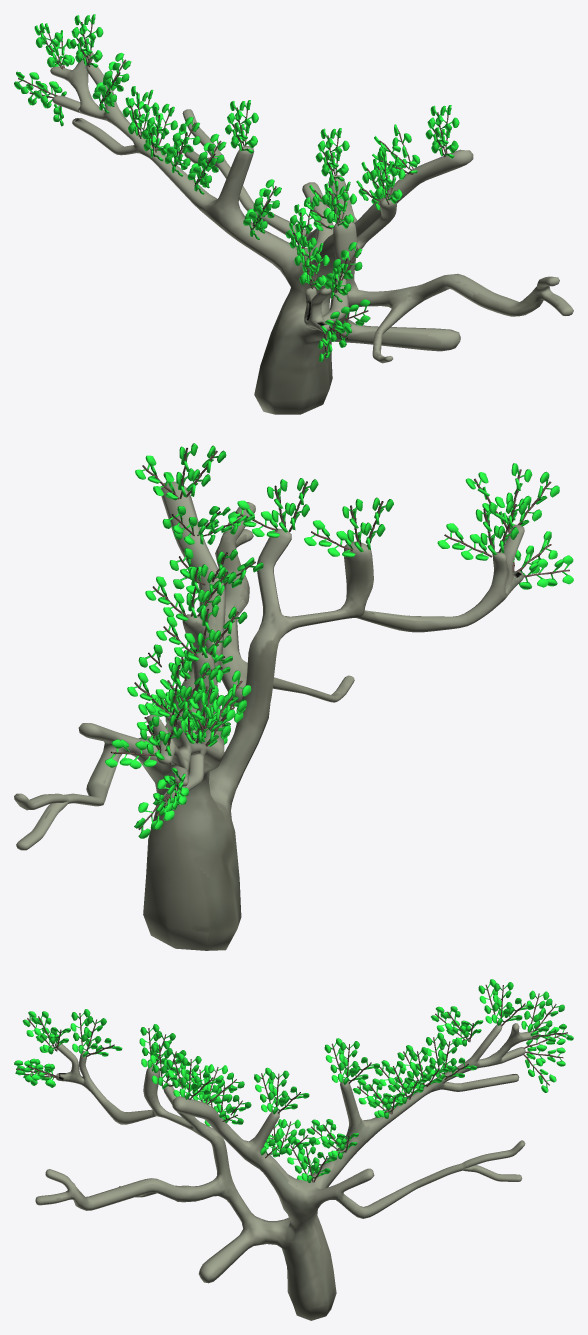
Rendered from tree.fbx.
3 renders of one model, top to bottom at view 1: azimuth 30°, elevation 25°; view 2: azimuth 150°, elevation 25°; view 3: azimuth 270°, elevation 25°, orthographic. The views are drawn at different scales.
Parts seen in each view (by area): view 1: Plane; view 2: Plane; view 3: Plane.
Part boxes in pixels (<box>): Plane: <box>50,52,573,414</box>; Plane: <box>14,481,524,950</box>; Plane: <box>35,1023,538,1320</box>.
Size of the model in its own units: 2476 by 3040 by 5313.
